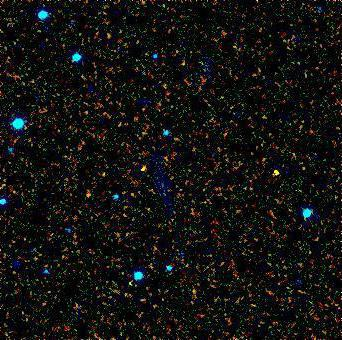star: (124, 151, 154, 181)
